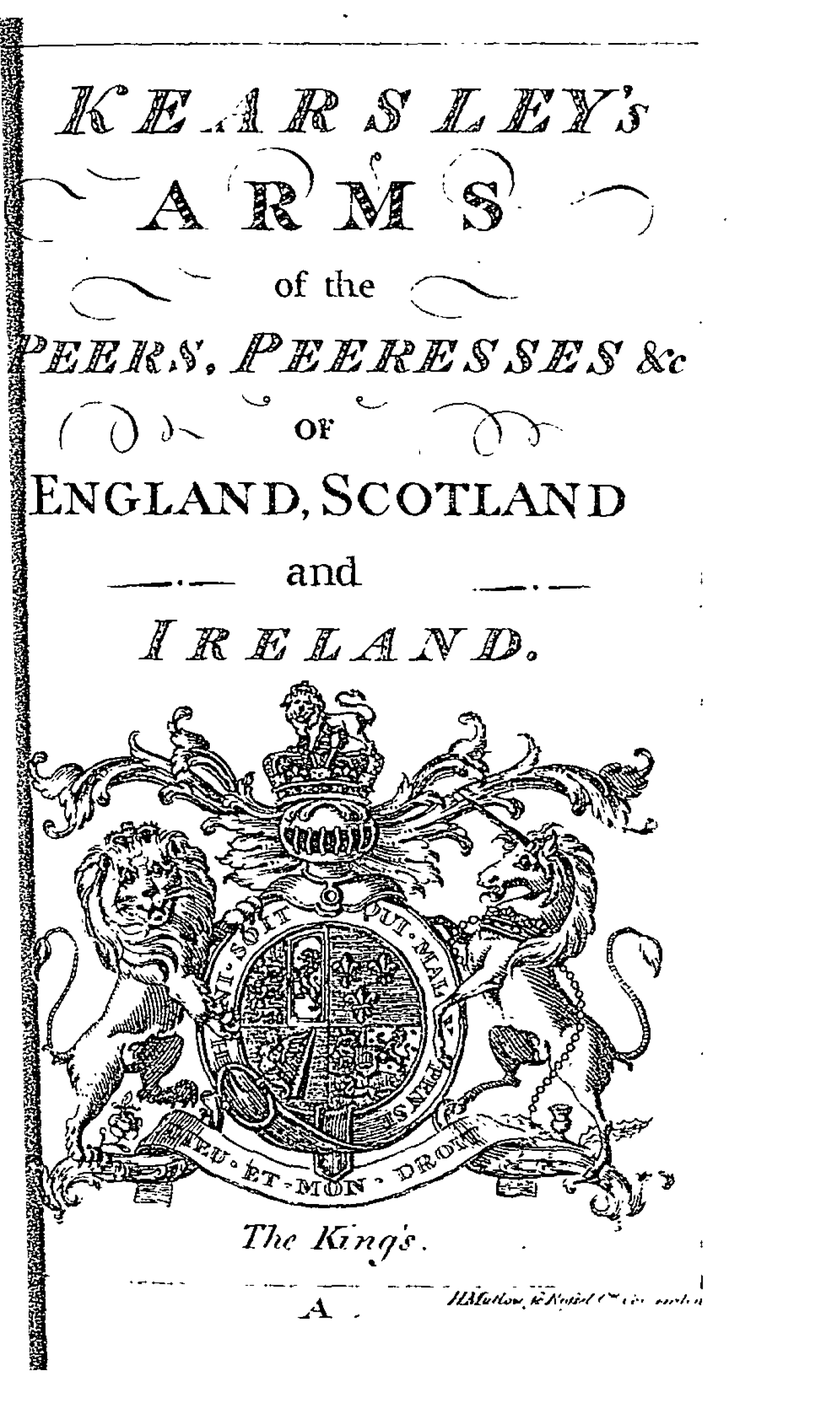coat_of_arms: (19, 671, 689, 1273)
